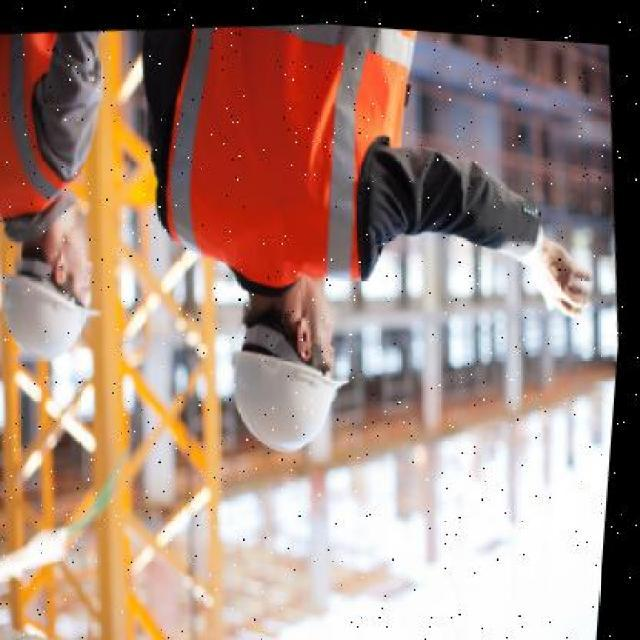helmet: (218, 326, 366, 460), (0, 256, 110, 362)
vest: (130, 8, 429, 300), (0, 22, 136, 228)
